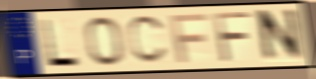C: (126, 14, 168, 67)
F: (167, 12, 210, 65), (212, 11, 254, 65)
L: (39, 17, 82, 69)
N: (258, 6, 305, 65)
O: (84, 15, 127, 67)
